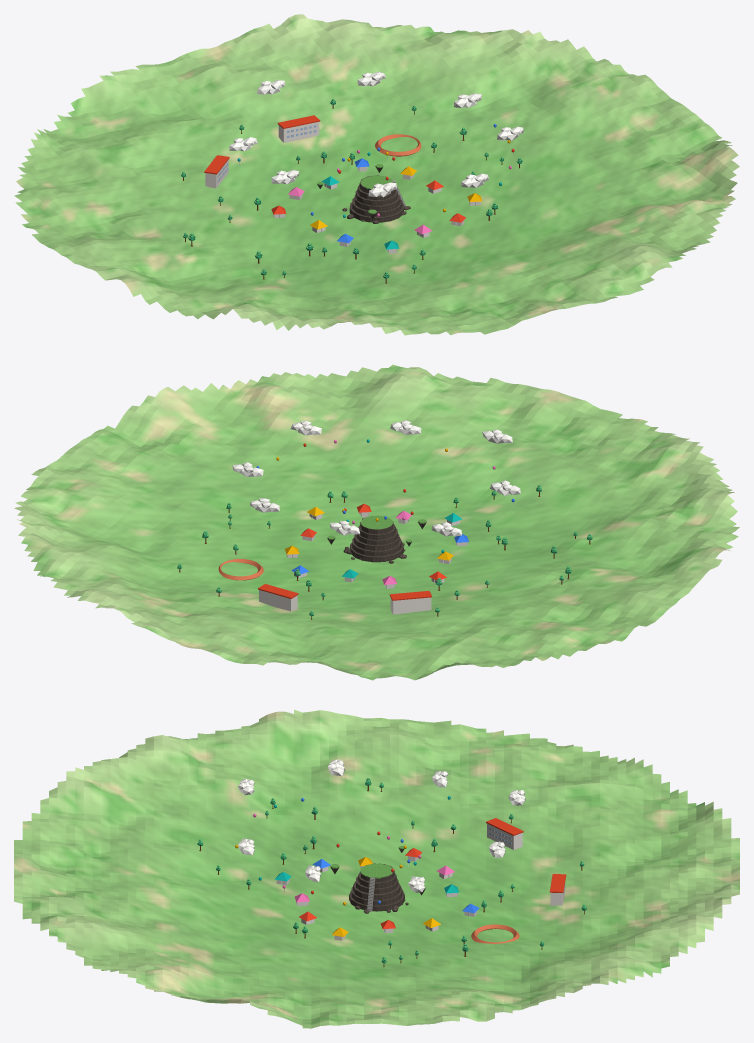
Rendered from env_classfair.glb.
3 views of the same model, one above another, from view 1: azimuth 30°, elevation 25°; view 2: azimuth 150°, elevation 25°; view 3: azimuth 270°, elevation 25° (orthographic). The views are drawn at different scales.
Parts seen in each view (by area): view 1: env_terrain_vc, env_cloud, env_rock, env_wall, env_roof_s, env_leaf; view 2: env_terrain_vc, env_cloud, env_rock, env_wall, env_roof_s, env_leaf; view 3: env_terrain_vc, env_cloud, env_rock, env_wall, env_roof_s.
Part boxes in pixels (<box>): env_terrain_vc: <box>14,14,739,335</box>; env_cloud: <box>229,71,523,197</box>; env_rock: <box>317,166,410,223</box>; env_wall: <box>205,122,480,253</box>; env_roof_s: <box>204,115,320,174</box>; env_leaf: <box>181,98,521,277</box>; env_terrain_vc: <box>14,364,739,680</box>; env_cloud: <box>232,420,520,536</box>; env_rock: <box>327,518,426,563</box>; env_wall: <box>259,512,467,614</box>; env_roof_s: <box>258,584,432,600</box>; env_leaf: <box>178,485,591,615</box>; env_terrain_vc: <box>14,709,739,1028</box>; env_cloud: <box>238,759,525,892</box>; env_rock: <box>330,848,425,913</box>; env_wall: <box>276,823,565,940</box>; env_roof_s: <box>486,818,566,892</box>.
Size of the model in its own units: 144 by 20.11 by 144.
Materials: 5 (5 with a texture image).
